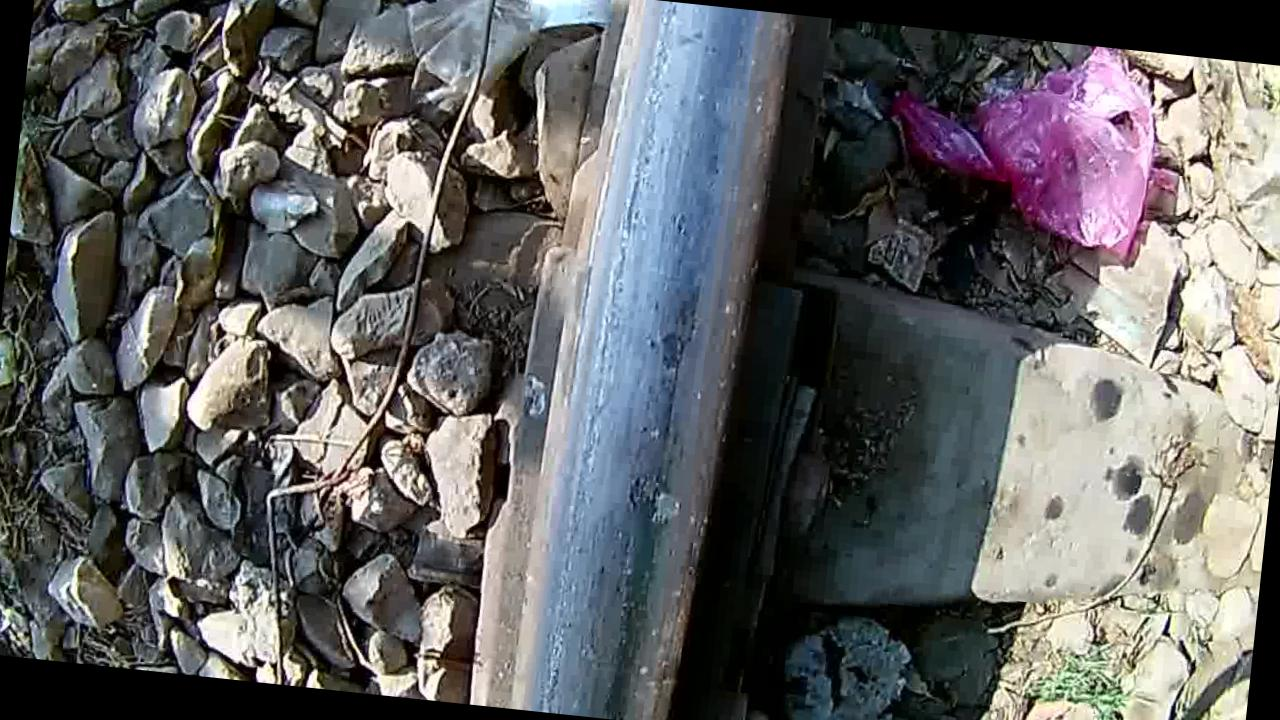crack: (530, 0, 788, 720)
